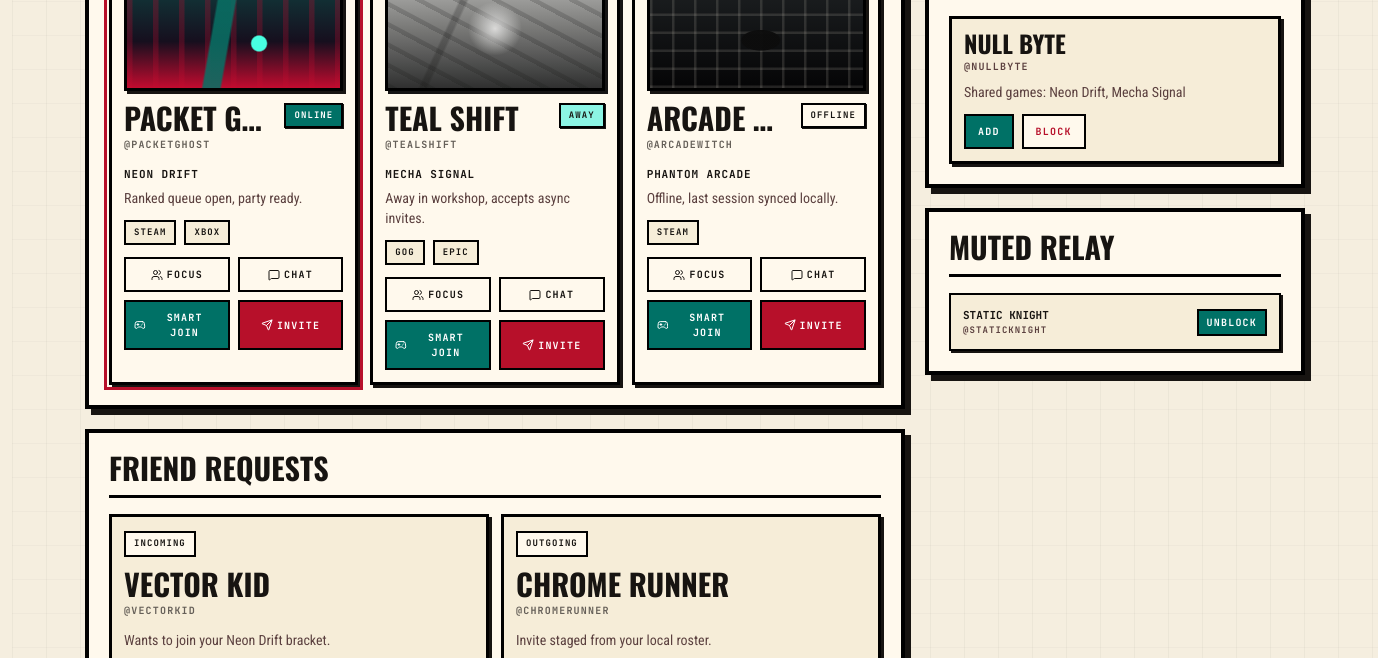
Scenario: FriendsPage › routes local roster chat handoff into the selected direct-message tab
The image size is (1378, 658).
(page scrolled)
Step 1. Click the button "Chat" below "Xbox" → (291, 275), box left=238, top=257, right=343, bottom=292
(page scrolled)
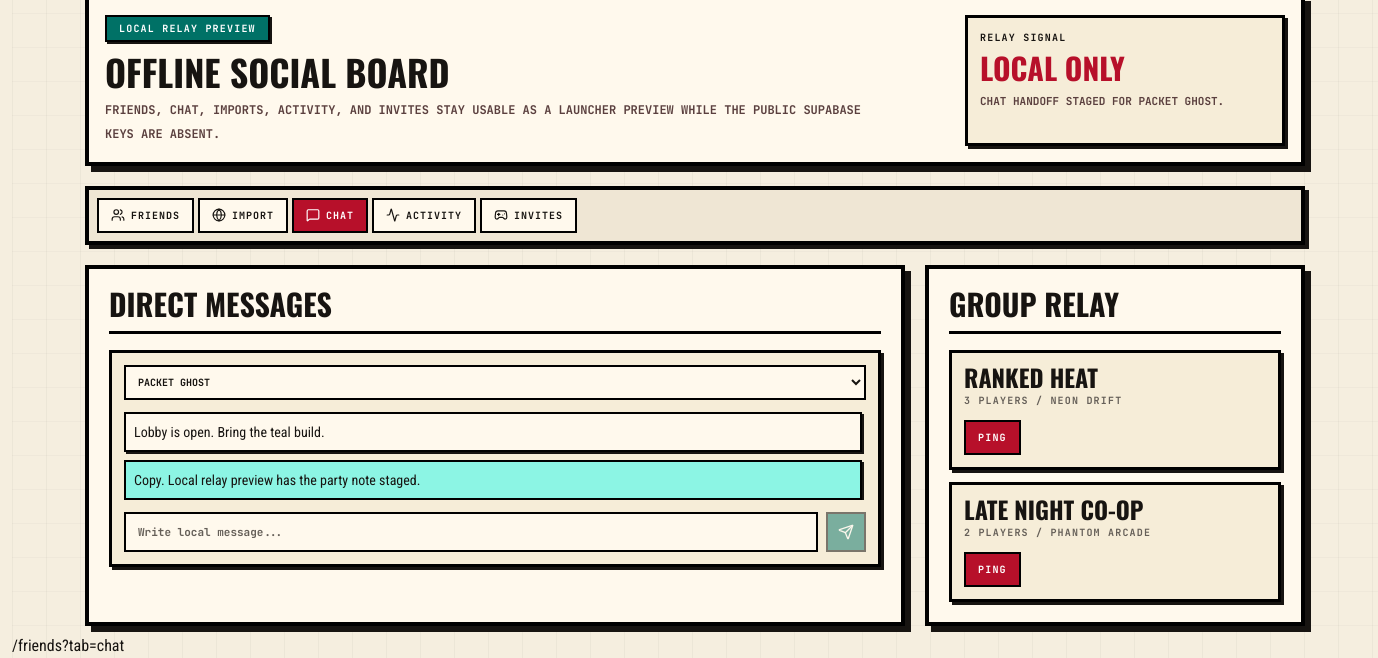
Expected: the heading "Direct Messages" is shown, left=109, top=289, right=881, bottom=334
Expected: the dropdown shows "Packet Ghost", left=124, top=365, right=866, bottom=400
Expected: the text "Chat handoff staged for Packet Ghost." is shown, left=980, top=94, right=1224, bottom=108
